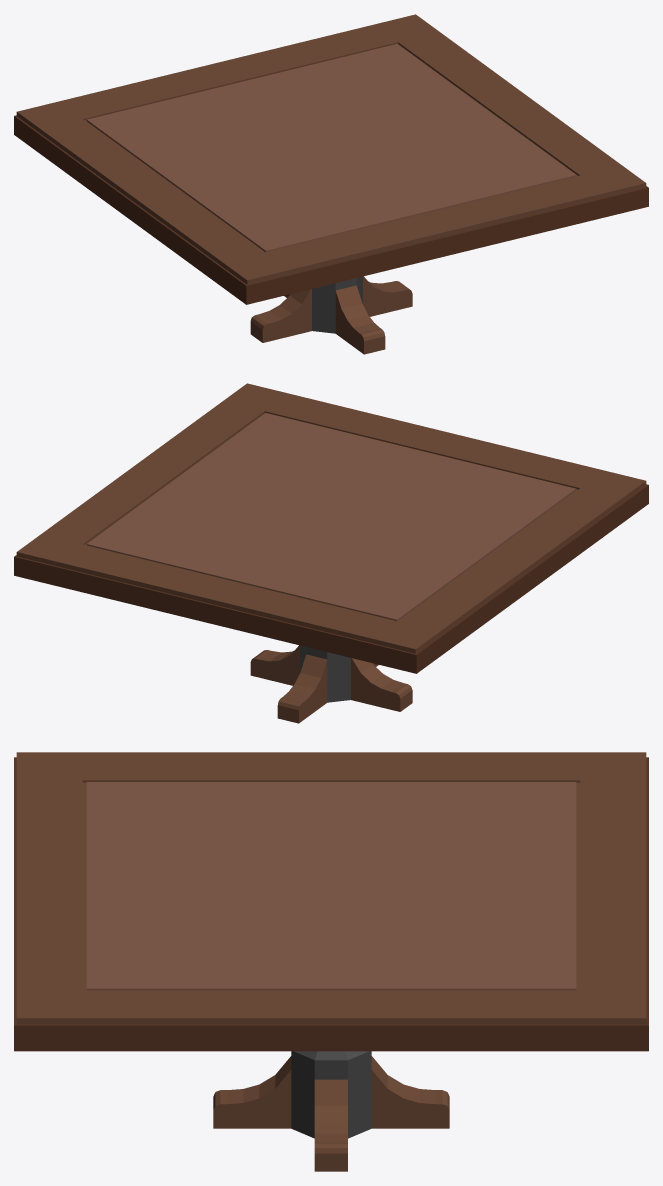
Rendered from DoubleDisplay_new.fbx.
The picture shows the model from 3 angles, top to bottom: view 1: azimuth 30°, elevation 25°; view 2: azimuth 150°, elevation 25°; view 3: azimuth 270°, elevation 25°; orthographic projection. The views are drawn at different scales.
Parts seen in each view (by area): view 1: Tanle_base; view 2: Tanle_base; view 3: Tanle_base.
Boxes of the visible parts, bbox=[...] form: Tanle_base: bbox=[14, 14, 648, 354]; Tanle_base: bbox=[14, 383, 648, 723]; Tanle_base: bbox=[14, 752, 648, 1171].
Bounding box in the file's own units: 182 × 74.63 × 182.
